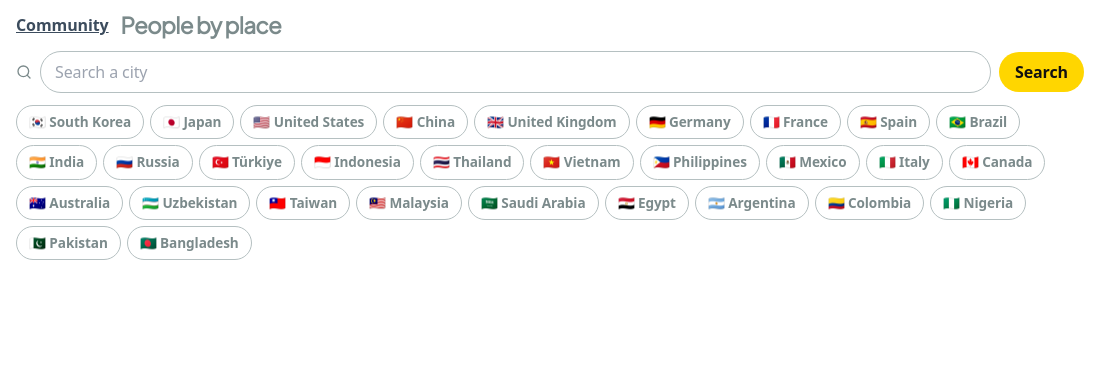
Test: says so when no one is there
Click the button with test id "city-country-Nigeria": (978, 203) [930,186,1026,220]
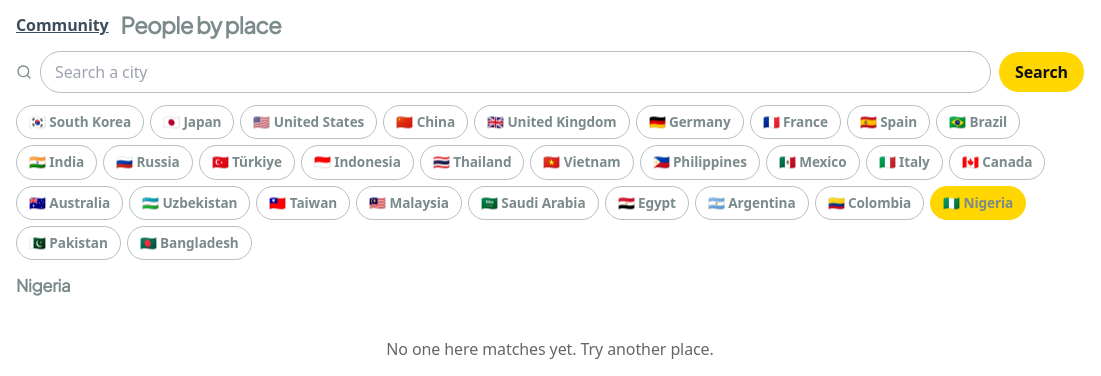
Check: the text "No one here matches yet. Try another place." is shown, box [386,338,714,360]
